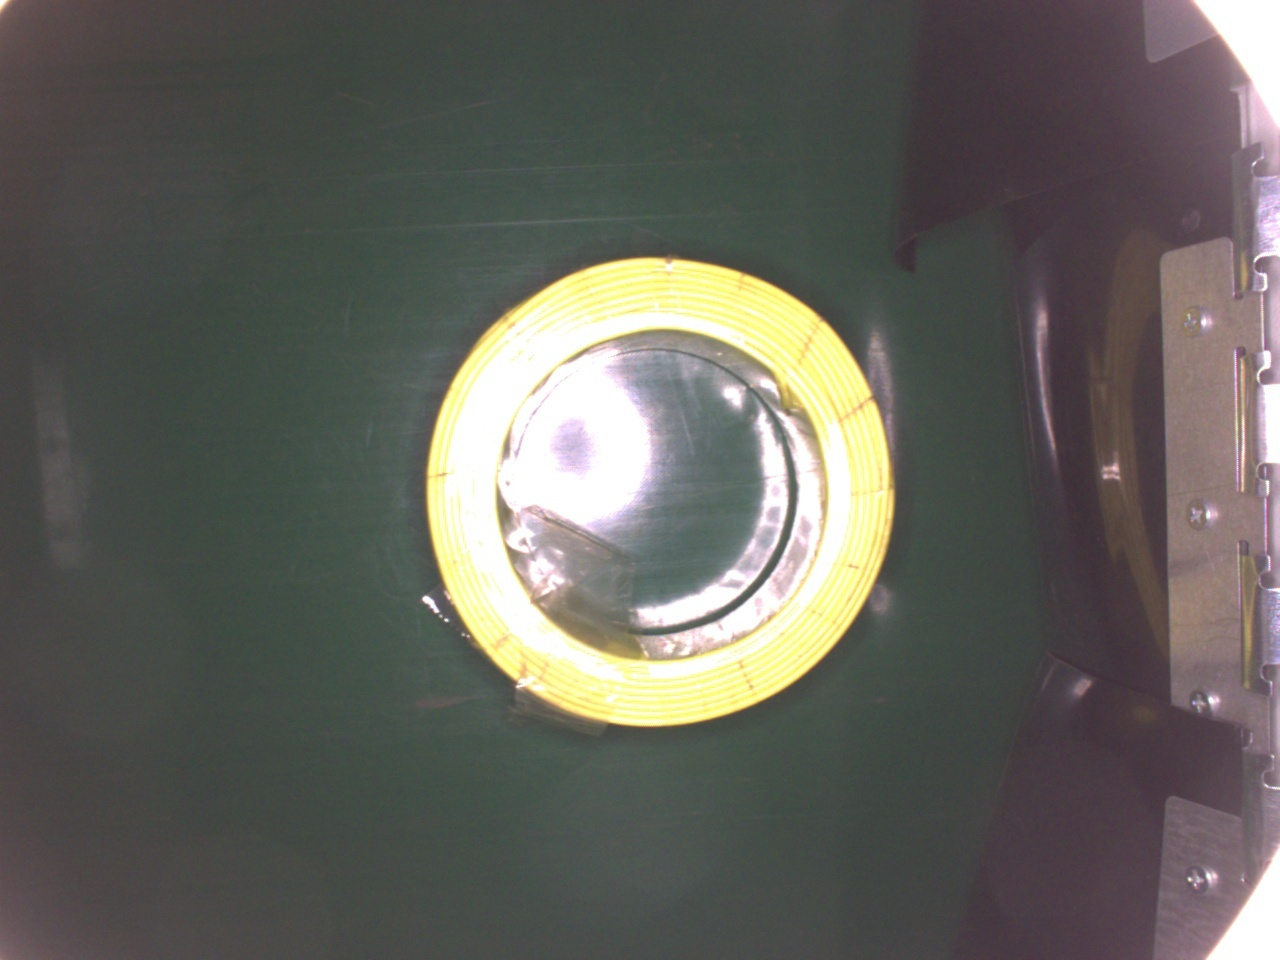yellow: (423, 251, 899, 730)
